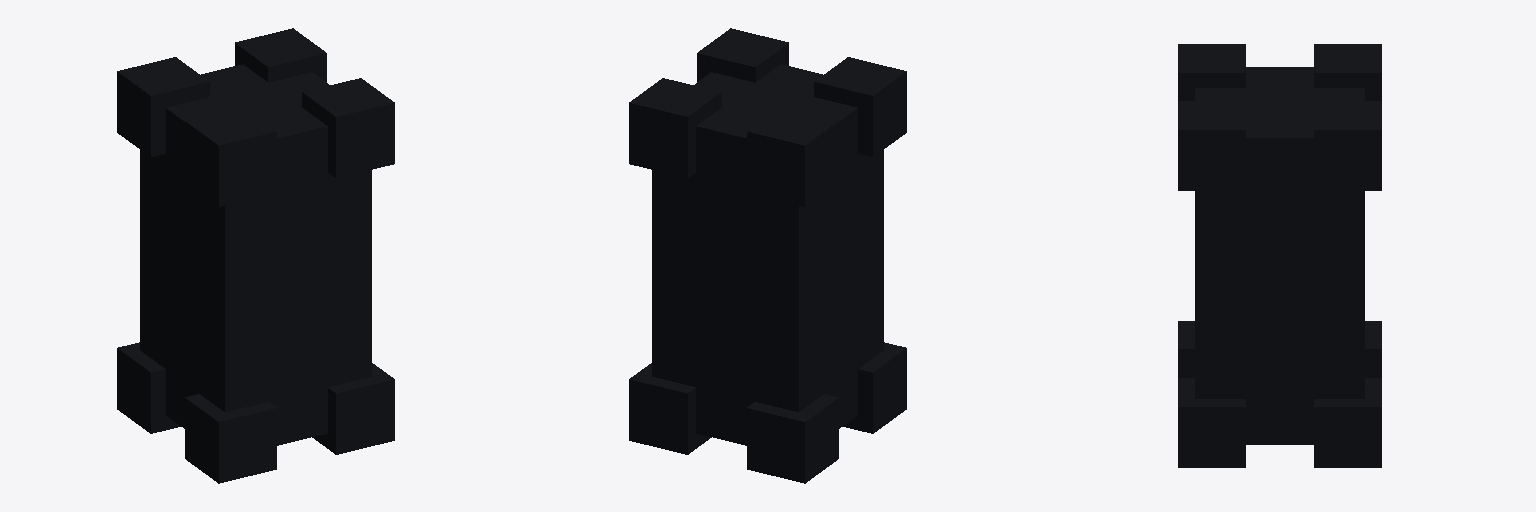
The model's file is block.obj.
3 views of the same model, side by side, from view 1: azimuth 30°, elevation 25°; view 2: azimuth 150°, elevation 25°; view 3: azimuth 270°, elevation 25° (orthographic).
Visible parts, largest first — view 1: Box002; view 2: Box002; view 3: Box002.
Boxes of the visible parts, box(x1,y1,x2,y2) form: Box002: box(117, 28, 394, 483); Box002: box(629, 28, 906, 483); Box002: box(1178, 44, 1381, 467).
Bounding box in the file's own units: 120 × 220 × 120.